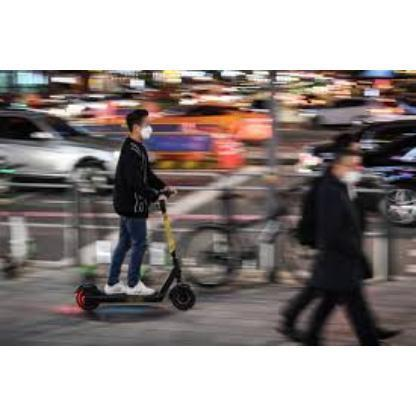with scooter: (74, 108, 197, 312)
without scooter: (296, 152, 400, 346), (274, 133, 362, 342)
